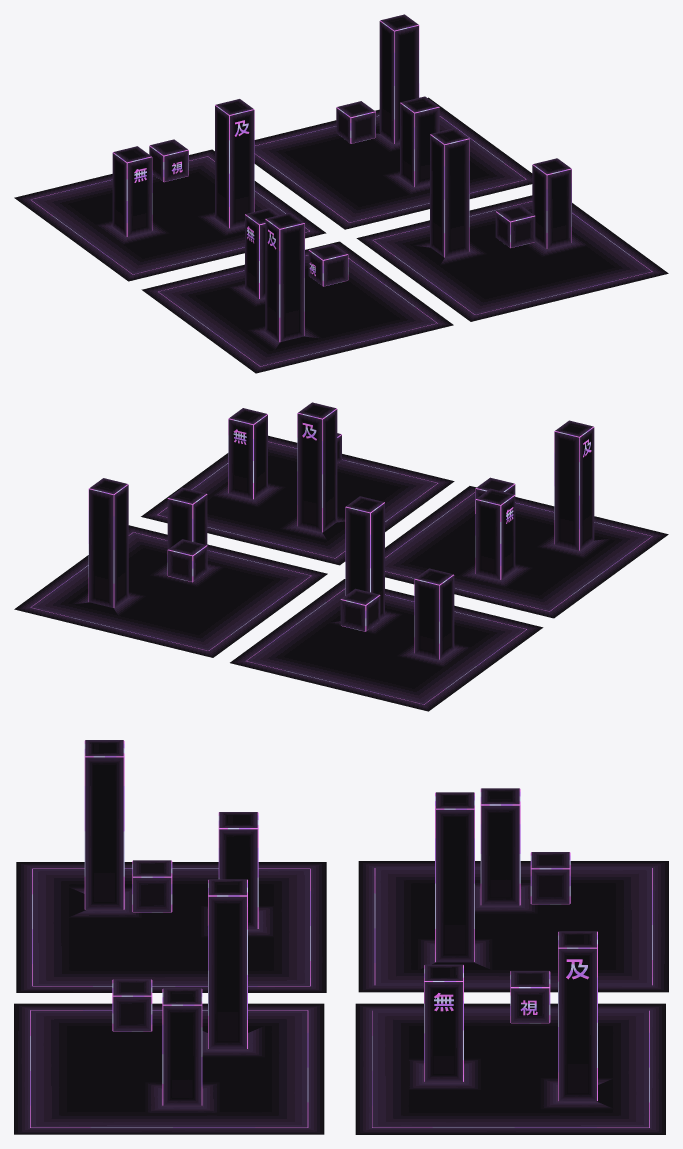
The model's file is tron.glb.
3 renders of one model, top to bottom at view 1: azimuth 30°, elevation 25°; view 2: azimuth 150°, elevation 25°; view 3: azimuth 270°, elevation 25°, orthographic. The views are drawn at different scales.
Visible parts, largest first — view 1: Plane.002, Plane.003, Plane.001, Plane, Cube.008, Cube.011, Cube.001, Cube.005, Cube, Cube.006, Cube.002, Cube.009 (+4 smaller); view 2: Plane.001, Plane, Plane.003, Plane.002, Cube.011, Cube.005, Cube.008, Cube.001, Cube, Cube.009, Cube.006, Cube.002 (+3 smaller); view 3: Plane.002, Plane.001, Plane.003, Plane, Cube.001, Cube.008, Cube.011, Cube.005, Cube.006, Cube.002, Cube, Cube.009 (+4 smaller).
Boxes of the visible parts, x1,y1,x2,y2 form: Plane.002: (356,195,668,321); Plane.003: (141,241,453,373); Plane.001: (254,97,532,229); Plane: (14,149,326,281); Cube.008: (413,128,486,265); Cube.011: (248,213,321,349); Cube.001: (198,99,254,236); Cube.005: (372,14,419,151); Cube: (95,146,169,244); Cube.006: (526,158,589,256); Cube.002: (383,96,439,194); Cube.009: (228,208,278,306); Plane.001: (14,525,327,657); Plane: (230,579,543,711); Plane.003: (385,486,668,618); Plane.002: (141,435,454,565); Cube.011: (537,420,611,558); Cube.005: (71,478,145,615); Cube.008: (280,402,345,540); Cube.001: (328,496,402,634); Cube: (397,568,471,667); Cube.009: (458,488,532,587); Cube.006: (211,408,285,507); Cube.002: (150,487,224,586); Plane.002: (14,1003,324,1134); Plane.001: (355,1003,665,1134); Plane.003: (16,862,326,992); Plane: (358,861,668,992); Cube.001: (418,792,492,969); Cube.008: (202,879,264,1057); Cube.011: (68,740,141,917); Cube.005: (540,931,614,1109); Cube.006: (145,988,219,1113); Cube.002: (406,964,480,1089); Cube: (475,788,537,913); Cube.009: (201,812,275,937).
Bounding box in the file's own units: 156 × 41.03 × 158.
Materials: 2 (2 with a texture image).
